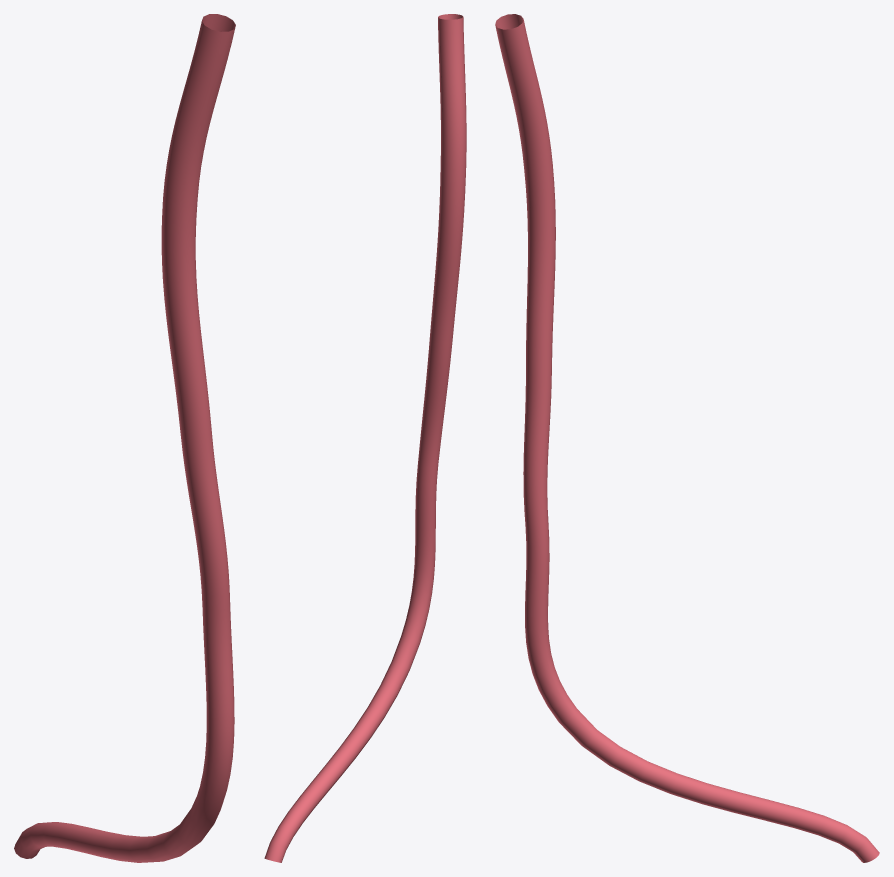
The picture shows the model from 3 angles, left to right: view 1: azimuth 30°, elevation 25°; view 2: azimuth 150°, elevation 25°; view 3: azimuth 270°, elevation 25°; orthographic projection. The views are drawn at different scales.
Visible parts, largest first — view 1: ZA_73d0d19efb4274c6; view 2: ZA_73d0d19efb4274c6; view 3: ZA_73d0d19efb4274c6.
Part boxes in pixels (x1,y1,x2,y2): ZA_73d0d19efb4274c6: (14,14,235,862); ZA_73d0d19efb4274c6: (264,14,466,862); ZA_73d0d19efb4274c6: (495,14,879,862).
Bounding box in the file's own units: 0.00469 × 0.0633 × 0.0265.
